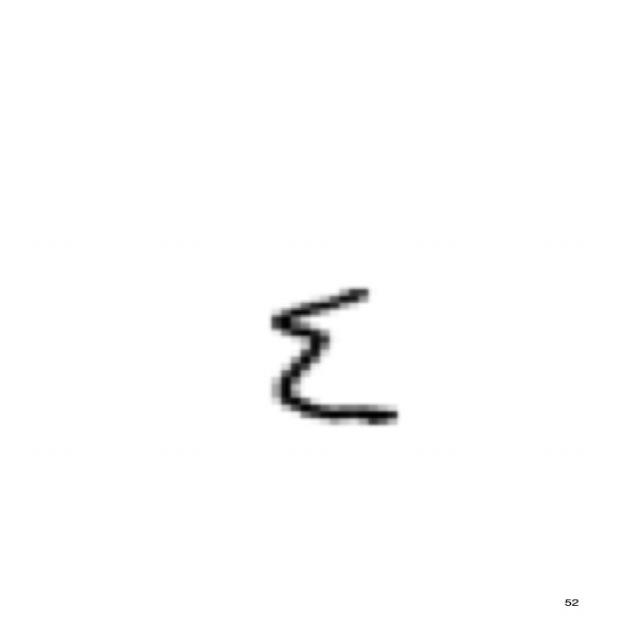4 -four-: (253, 280, 412, 434)
